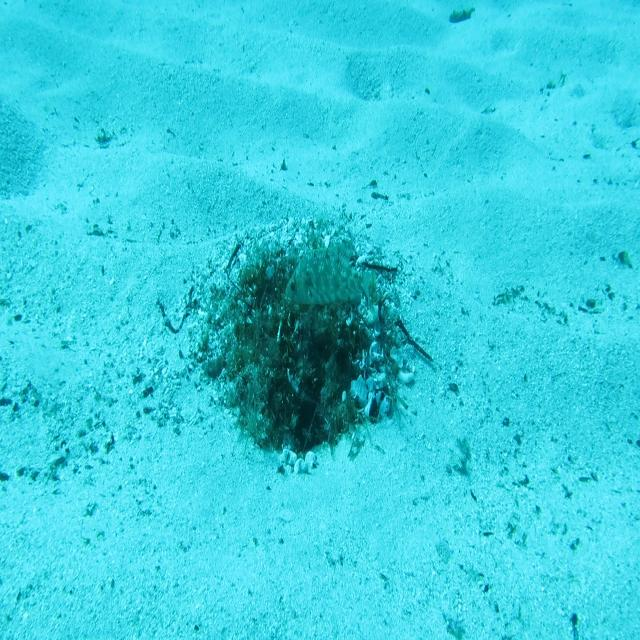MAN: (281, 238, 378, 323)
core_nest: (268, 273, 320, 314)
nest: (178, 214, 423, 492)
vegetation: (448, 6, 481, 26)
